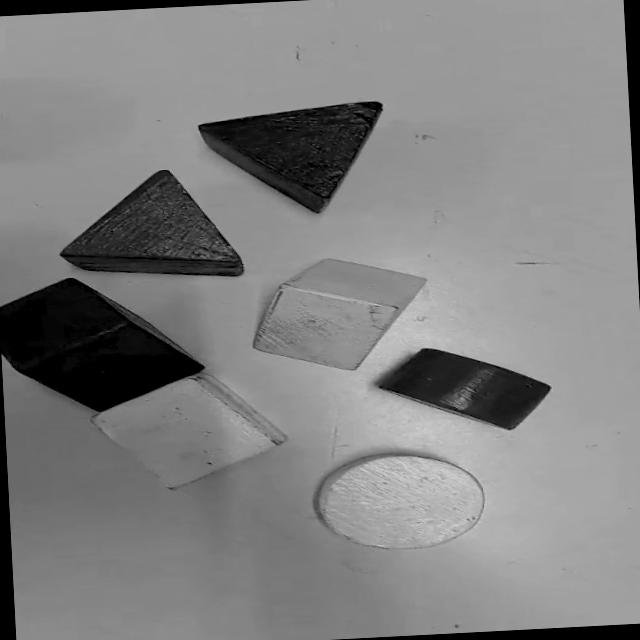btriangle: (198, 101, 381, 213)
rcircle: (378, 348, 550, 429)
rcube: (0, 279, 204, 411)
rtriangle: (60, 170, 243, 277)
ycircle: (315, 454, 484, 550)
ycube: (92, 374, 284, 489)
ytriangle: (254, 259, 426, 370)
